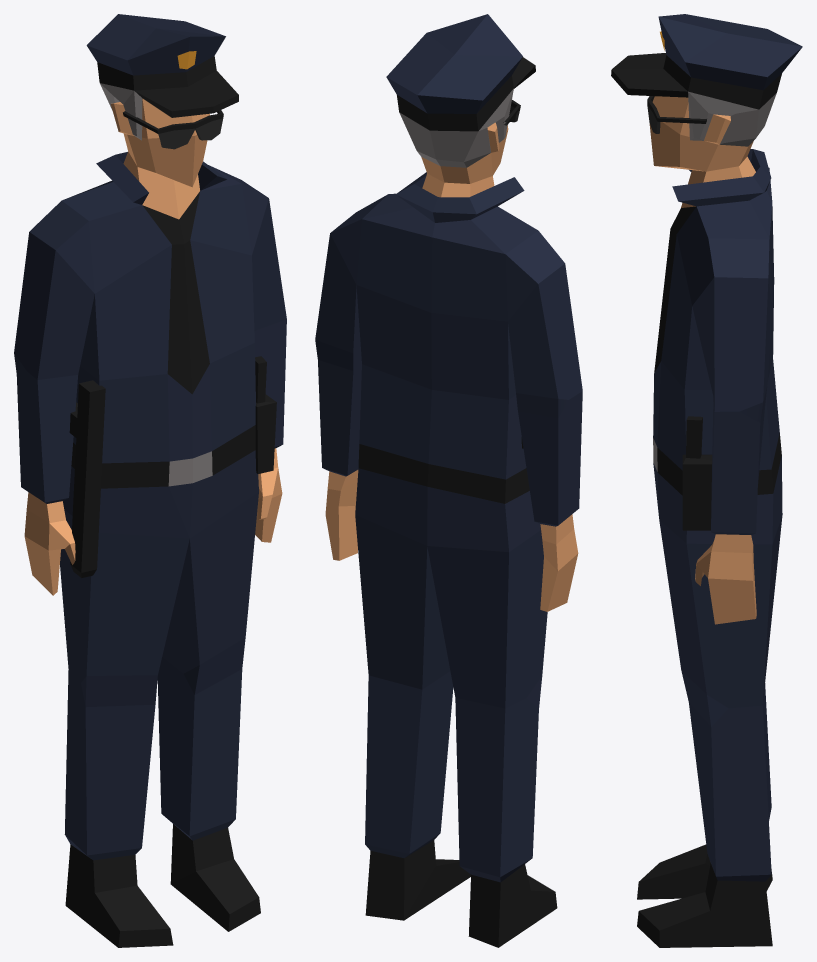
The model's file is people_man-police.fbx.
3 renders of one model, left to right at view 1: azimuth 30°, elevation 25°; view 2: azimuth 150°, elevation 25°; view 3: azimuth 270°, elevation 25°, orthographic. The views are drawn at different scales.
Parts seen in each view (by area): view 1: people_man_police; view 2: people_man_police; view 3: people_man_police.
Part boxes in pixels (x1,y1,x2,y2): people_man_police: [14, 14, 286, 947]; people_man_police: [315, 14, 582, 947]; people_man_police: [611, 14, 802, 947].
Size of the model in its own units: 58.36 by 200 by 38.77.
